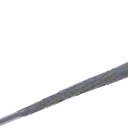crackTip: (1, 62, 128, 126)
